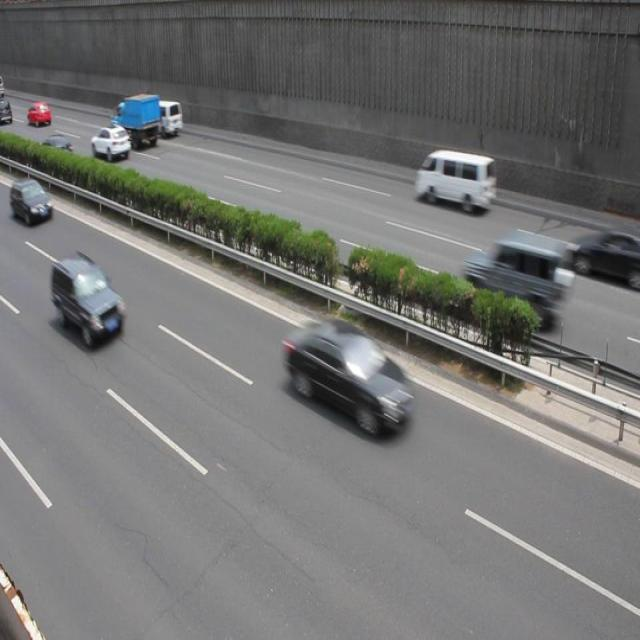bus: (108, 94, 160, 149)
car: (282, 316, 416, 438), (456, 230, 566, 326), (52, 251, 126, 349), (14, 178, 53, 224), (90, 123, 130, 161), (36, 134, 76, 169), (26, 101, 53, 127)
truck: (414, 151, 496, 216), (143, 98, 184, 136)
